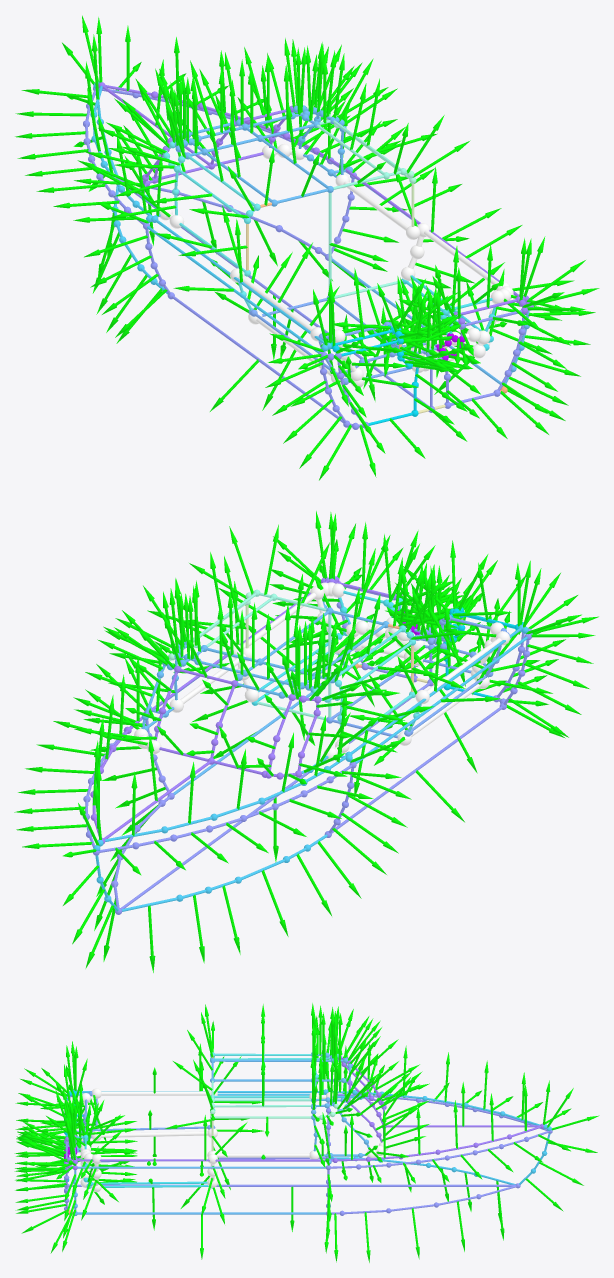
The model's file is flowrep_boat.gltf.
3 renders of one model, top to bottom at view 1: azimuth 30°, elevation 25°; view 2: azimuth 150°, elevation 25°; view 3: azimuth 270°, elevation 25°, orthographic. The views are drawn at different scales.
Size of the model in its own units: 0.5225 by 0.4207 by 1.11.
